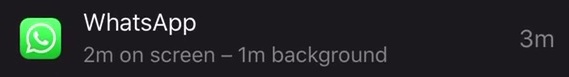name: (75, 4, 208, 40)
time: (79, 42, 119, 72), (234, 44, 270, 75)
